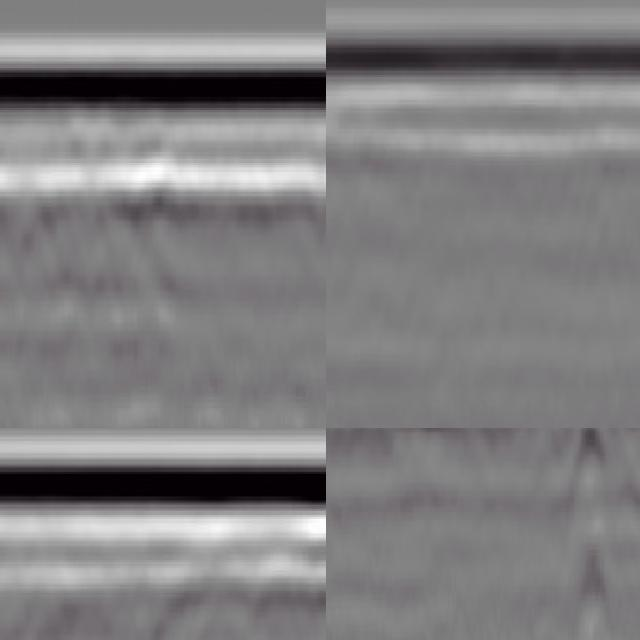crack: (569, 429, 608, 640)
